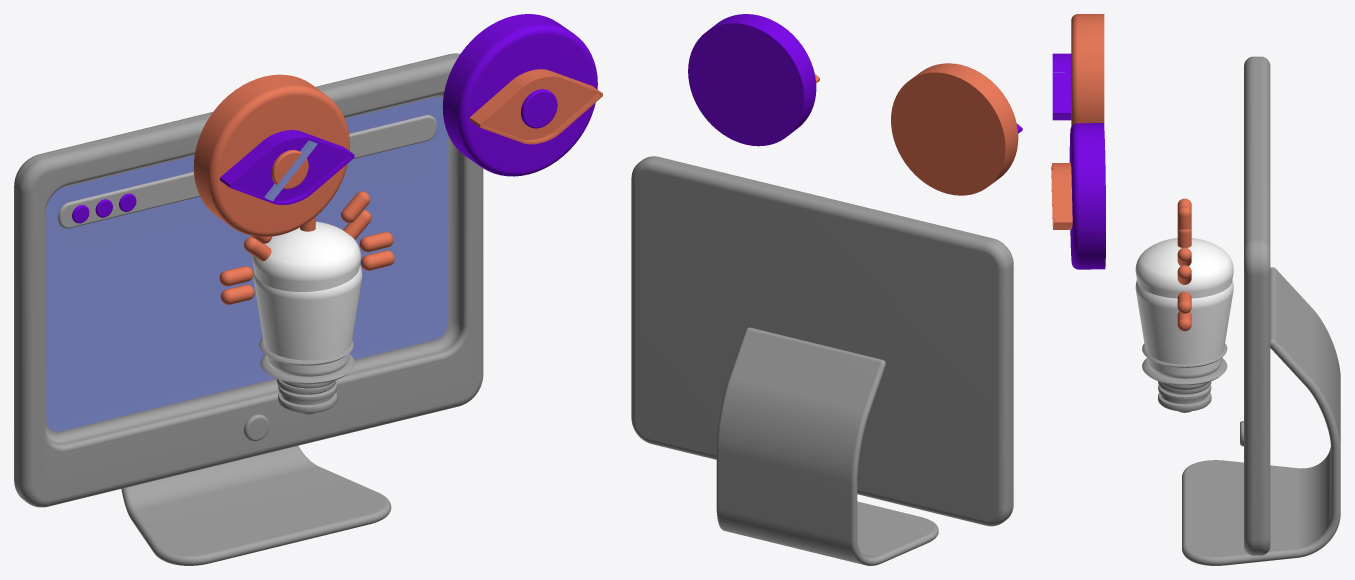
Rendered from semi-supervised-learning-3d-animated-icon-570811634006.glb.
3 views of the same model, side by side, from view 1: azimuth 30°, elevation 25°; view 2: azimuth 150°, elevation 25°; view 3: azimuth 270°, elevation 25° (orthographic). The views are drawn at different scales.
Parts seen in each view (by area): view 1: Cube.004, Plane.011, Cylinder.009, Cylinder.011, Cylinder.015, Cylinder.006, Plane.009, Cube.002, Cube, Cylinder.014, Cylinder.010, Cylinder.005 (+3 smaller); view 2: Cube.004, Plane.011, Cylinder.011, Cylinder.009; view 3: Plane.011, Cube.004, Cylinder.015, Cylinder.011, Cylinder.006, Cylinder.009, Cylinder.014, Cube.002, Cube, Cylinder.007, Cylinder.004.
Part boxes in pixels (x1,y1,x2,y2): Cube.004: (14, 53, 483, 507); Plane.011: (121, 445, 391, 565); Cylinder.009: (193, 74, 349, 236); Cylinder.011: (442, 14, 597, 176); Cylinder.015: (253, 265, 362, 376); Cylinder.006: (252, 221, 360, 291); Plane.009: (58, 115, 436, 228); Cube.002: (469, 69, 602, 144); Cube: (220, 130, 354, 204); Cylinder.014: (260, 354, 354, 414); Cylinder.010: (521, 89, 557, 128); Cylinder.005: (219, 232, 393, 286); Cube.004: (631, 156, 1013, 526); Plane.011: (716, 327, 938, 565); Cylinder.011: (688, 14, 816, 146); Cylinder.009: (891, 63, 1018, 195); Plane.011: (1182, 267, 1340, 565); Cube.004: (1244, 56, 1270, 555); Cylinder.015: (1135, 280, 1233, 378); Cylinder.011: (1069, 123, 1105, 269); Cylinder.006: (1135, 238, 1233, 298); Cylinder.009: (1071, 14, 1104, 126); Cylinder.014: (1142, 358, 1227, 412); Cube.002: (1051, 163, 1072, 229); Cube: (1052, 53, 1071, 120); Cylinder.007: (1142, 343, 1227, 393); Cylinder.004: (1177, 198, 1191, 266).
Size of the model in its own units: 0.4326 by 0.4448 by 0.2503.
